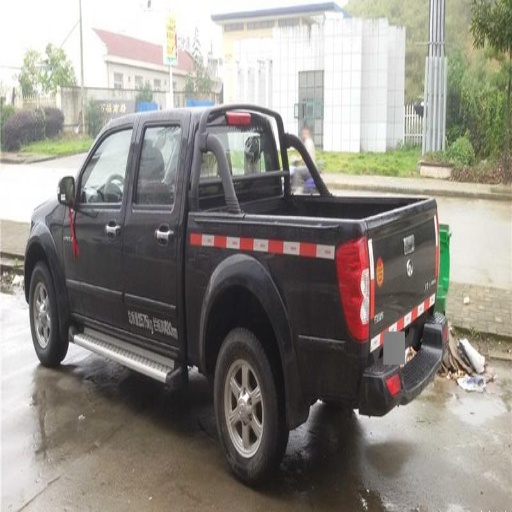trunk: (143, 184, 437, 396)
